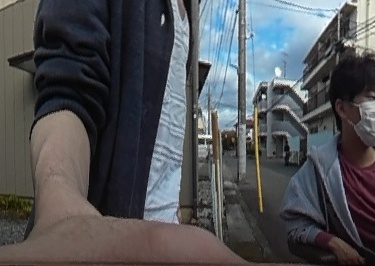person: (279, 57, 375, 266), (282, 139, 292, 162)
